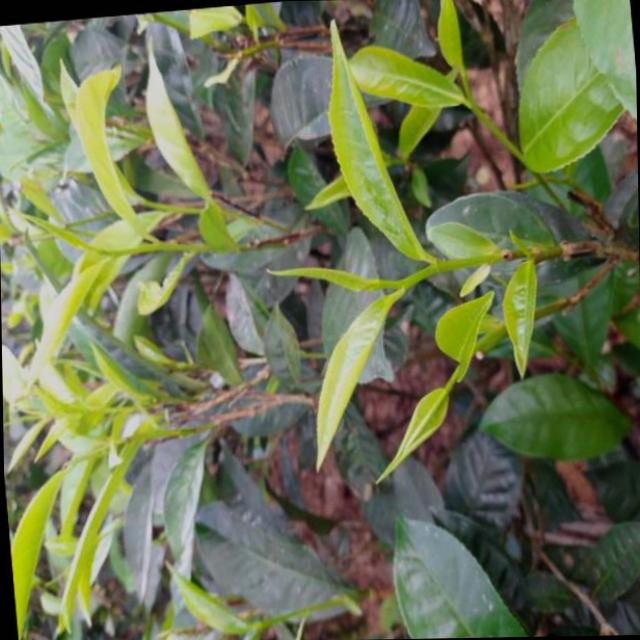Stem: (432, 261, 443, 270), (109, 249, 119, 258)
